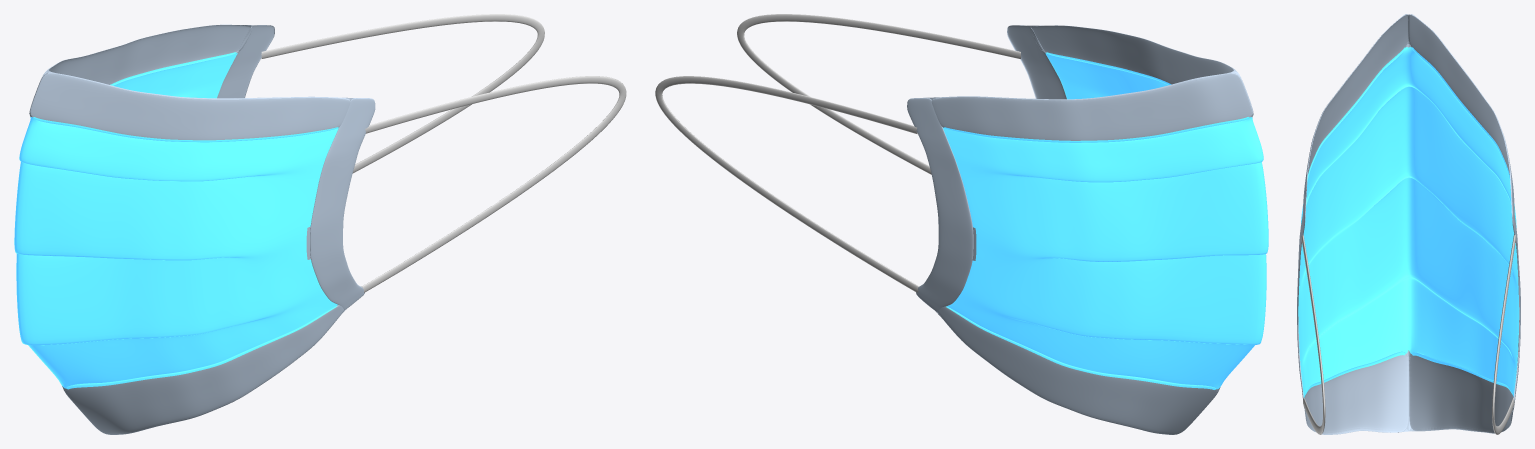
File: FoldedMask.fbx
The picture shows the model from 3 angles, left to right: view 1: azimuth 30°, elevation 25°; view 2: azimuth 150°, elevation 25°; view 3: azimuth 270°, elevation 25°; orthographic projection. The views are drawn at different scales.
Parts seen in each view (by area): view 1: Sphere, BezierCurve; view 2: Sphere, BezierCurve; view 3: Sphere, BezierCurve.
Part boxes in pixels (x1,y1,x2,y2): Sphere: (14,24,375,434); BezierCurve: (261,14,626,292); Sphere: (907,25,1268,434); BezierCurve: (655,14,1020,292); Sphere: (1297,14,1520,434); BezierCurve: (1301,234,1516,434).
Bounding box in the file's own units: 450 × 283 × 148.
